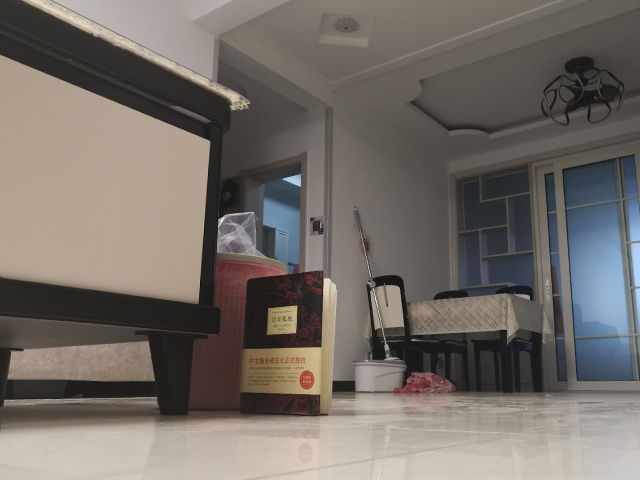book: (236, 268, 339, 417)
stool: (367, 274, 442, 392), (472, 285, 543, 395), (408, 289, 471, 392)
table: (1, 1, 252, 419), (403, 291, 548, 395)
trashcan: (189, 251, 291, 413)
